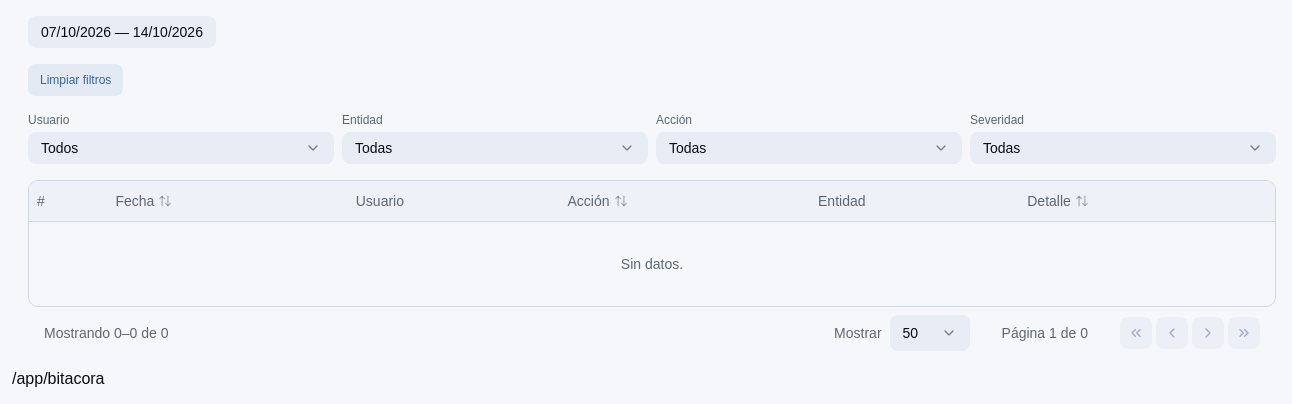
Test: filters and page, which have to survive a trip through a link › writes a chosen filter into the address
Click the 2nd button "Todas" at (688, 148), box [656, 132, 962, 164]
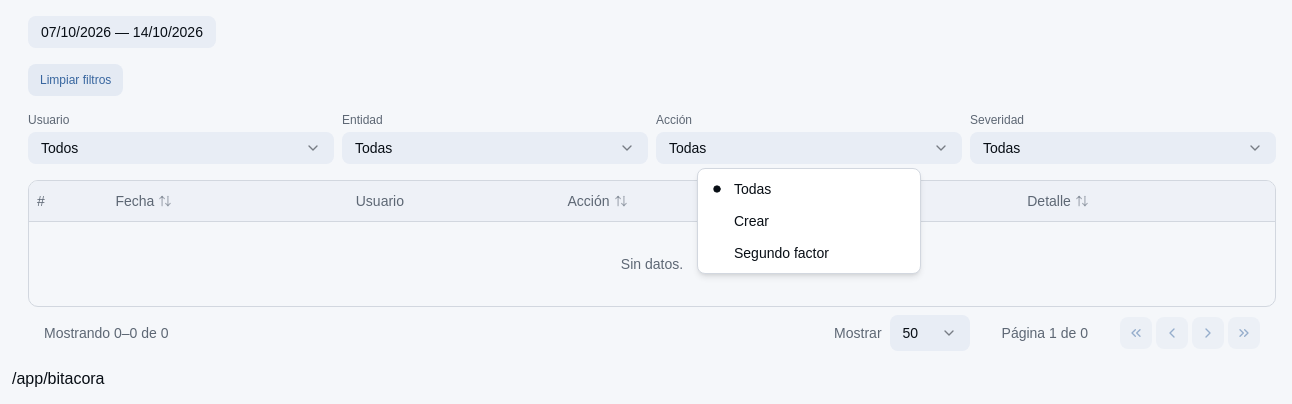
Click the menu item "Segundo factor" at (782, 253), box [734, 245, 829, 261]
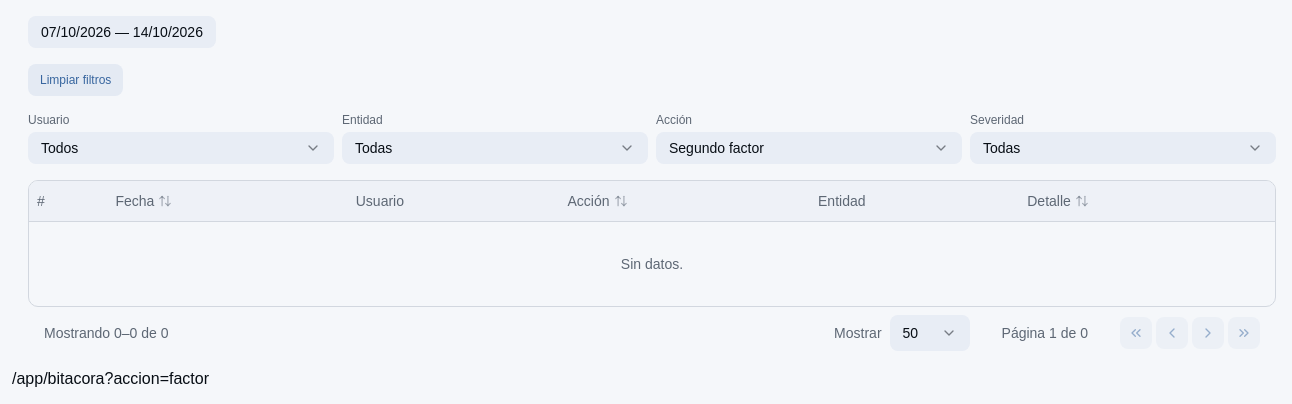
Expected: the text with test id "direccion" reads "/app/bitacora?accion=factor", [12, 370, 209, 386]
